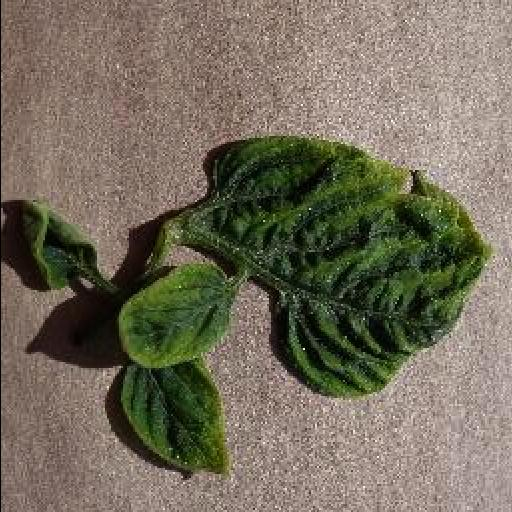disease_tomato: (206, 132, 488, 400), (116, 362, 230, 476), (113, 262, 231, 370)
